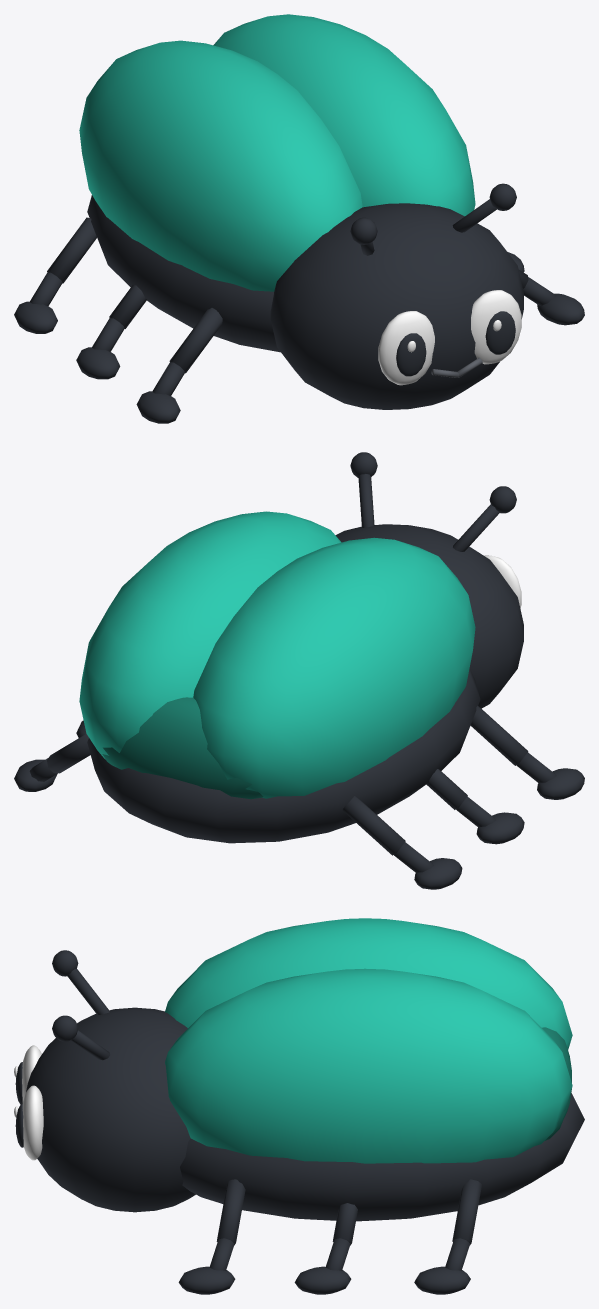
Rendered from Beetle.glb.
3 views of the same model, one above another, from view 1: azimuth 30°, elevation 25°; view 2: azimuth 150°, elevation 25°; view 3: azimuth 270°, elevation 25° (orthographic). The views are drawn at different scales.
Visible parts, largest first — view 1: Beetle_Shell_L, Beetle_Head, Beetle_Shell_R, Beetle_Underbody, Beetle_EyeWhite_L, Beetle_EyeWhite_R, Beetle_Leg_L1_Upper, Beetle_Leg_L3_Upper, Beetle_Leg_L2_Foot, Beetle_Leg_L1_Foot, Beetle_Leg_L3_Foot, Beetle_Leg_R1_Foot (+10 smaller); view 2: Beetle_Shell_L, Beetle_Shell_R, Beetle_Underbody, Beetle_Head, Beetle_RearAccent, Beetle_Leg_L3_Upper, Beetle_Leg_L1_Upper, Beetle_Leg_L1_Foot, Beetle_Leg_L3_Foot, Beetle_Leg_L2_Foot, Beetle_Leg_R3_Upper, Beetle_Leg_L2_Upper (+7 smaller); view 3: Beetle_Shell_R, Beetle_Head, Beetle_Shell_L, Beetle_Underbody, Beetle_EyeWhite_R, Beetle_Leg_R3_Foot, Beetle_Leg_R1_Foot, Beetle_Leg_R2_Foot, Beetle_Leg_R3_Upper, Beetle_Leg_R1_Upper, Beetle_Leg_R2_Upper, Beetle_Antenna_L (+8 smaller).
Part boxes in pixels (box(x1,y1,x2,y2)): Beetle_Shell_L: box(79, 40, 362, 291); Beetle_Head: box(270, 203, 523, 409); Beetle_Shell_R: box(213, 14, 475, 216); Beetle_Underbody: box(87, 195, 280, 352); Beetle_EyeWhite_L: box(378, 311, 434, 385); Beetle_EyeWhite_R: box(471, 290, 521, 364); Beetle_Leg_L1_Upper: box(169, 308, 222, 373); Beetle_Leg_L3_Upper: box(47, 217, 96, 283); Beetle_Leg_L2_Foot: box(76, 347, 120, 379); Beetle_Leg_L1_Foot: box(136, 391, 180, 423); Beetle_Leg_L3_Foot: box(14, 301, 57, 333); Beetle_Leg_R1_Foot: box(537, 293, 584, 325); Beetle_Shell_L: box(193, 537, 475, 798); Beetle_Shell_R: box(79, 511, 341, 759); Beetle_Underbody: box(87, 668, 480, 843); Beetle_Head: box(335, 524, 523, 708); Beetle_RearAccent: box(102, 697, 263, 799); Beetle_Leg_L3_Upper: box(342, 796, 405, 855); Beetle_Leg_L1_Upper: box(470, 705, 528, 765); Beetle_Leg_L1_Foot: box(537, 768, 584, 799); Beetle_Leg_L3_Foot: box(414, 858, 462, 889); Beetle_Leg_L2_Foot: box(476, 812, 524, 844); Beetle_Leg_R3_Upper: box(47, 734, 90, 773); Beetle_Leg_L2_Upper: box(426, 769, 467, 809); Beetle_Shell_R: box(165, 968, 572, 1163); Beetle_Head: box(26, 1007, 195, 1212); Beetle_Shell_L: box(165, 918, 572, 1049); Beetle_Underbody: box(180, 1093, 584, 1221); Beetle_EyeWhite_R: box(22, 1085, 43, 1160); Beetle_Leg_R3_Foot: box(414, 1266, 470, 1294); Beetle_Leg_R1_Foot: box(178, 1266, 235, 1294); Beetle_Leg_R2_Foot: box(294, 1266, 351, 1294); Beetle_Leg_R3_Upper: box(452, 1179, 481, 1244); Beetle_Leg_R1_Upper: box(216, 1179, 245, 1245); Beetle_Leg_R2_Upper: box(332, 1203, 357, 1245); Beetle_Antenna_L: box(67, 968, 110, 1014).
Bounding box in the file's own units: 2.76 × 1.54 × 3.25.
